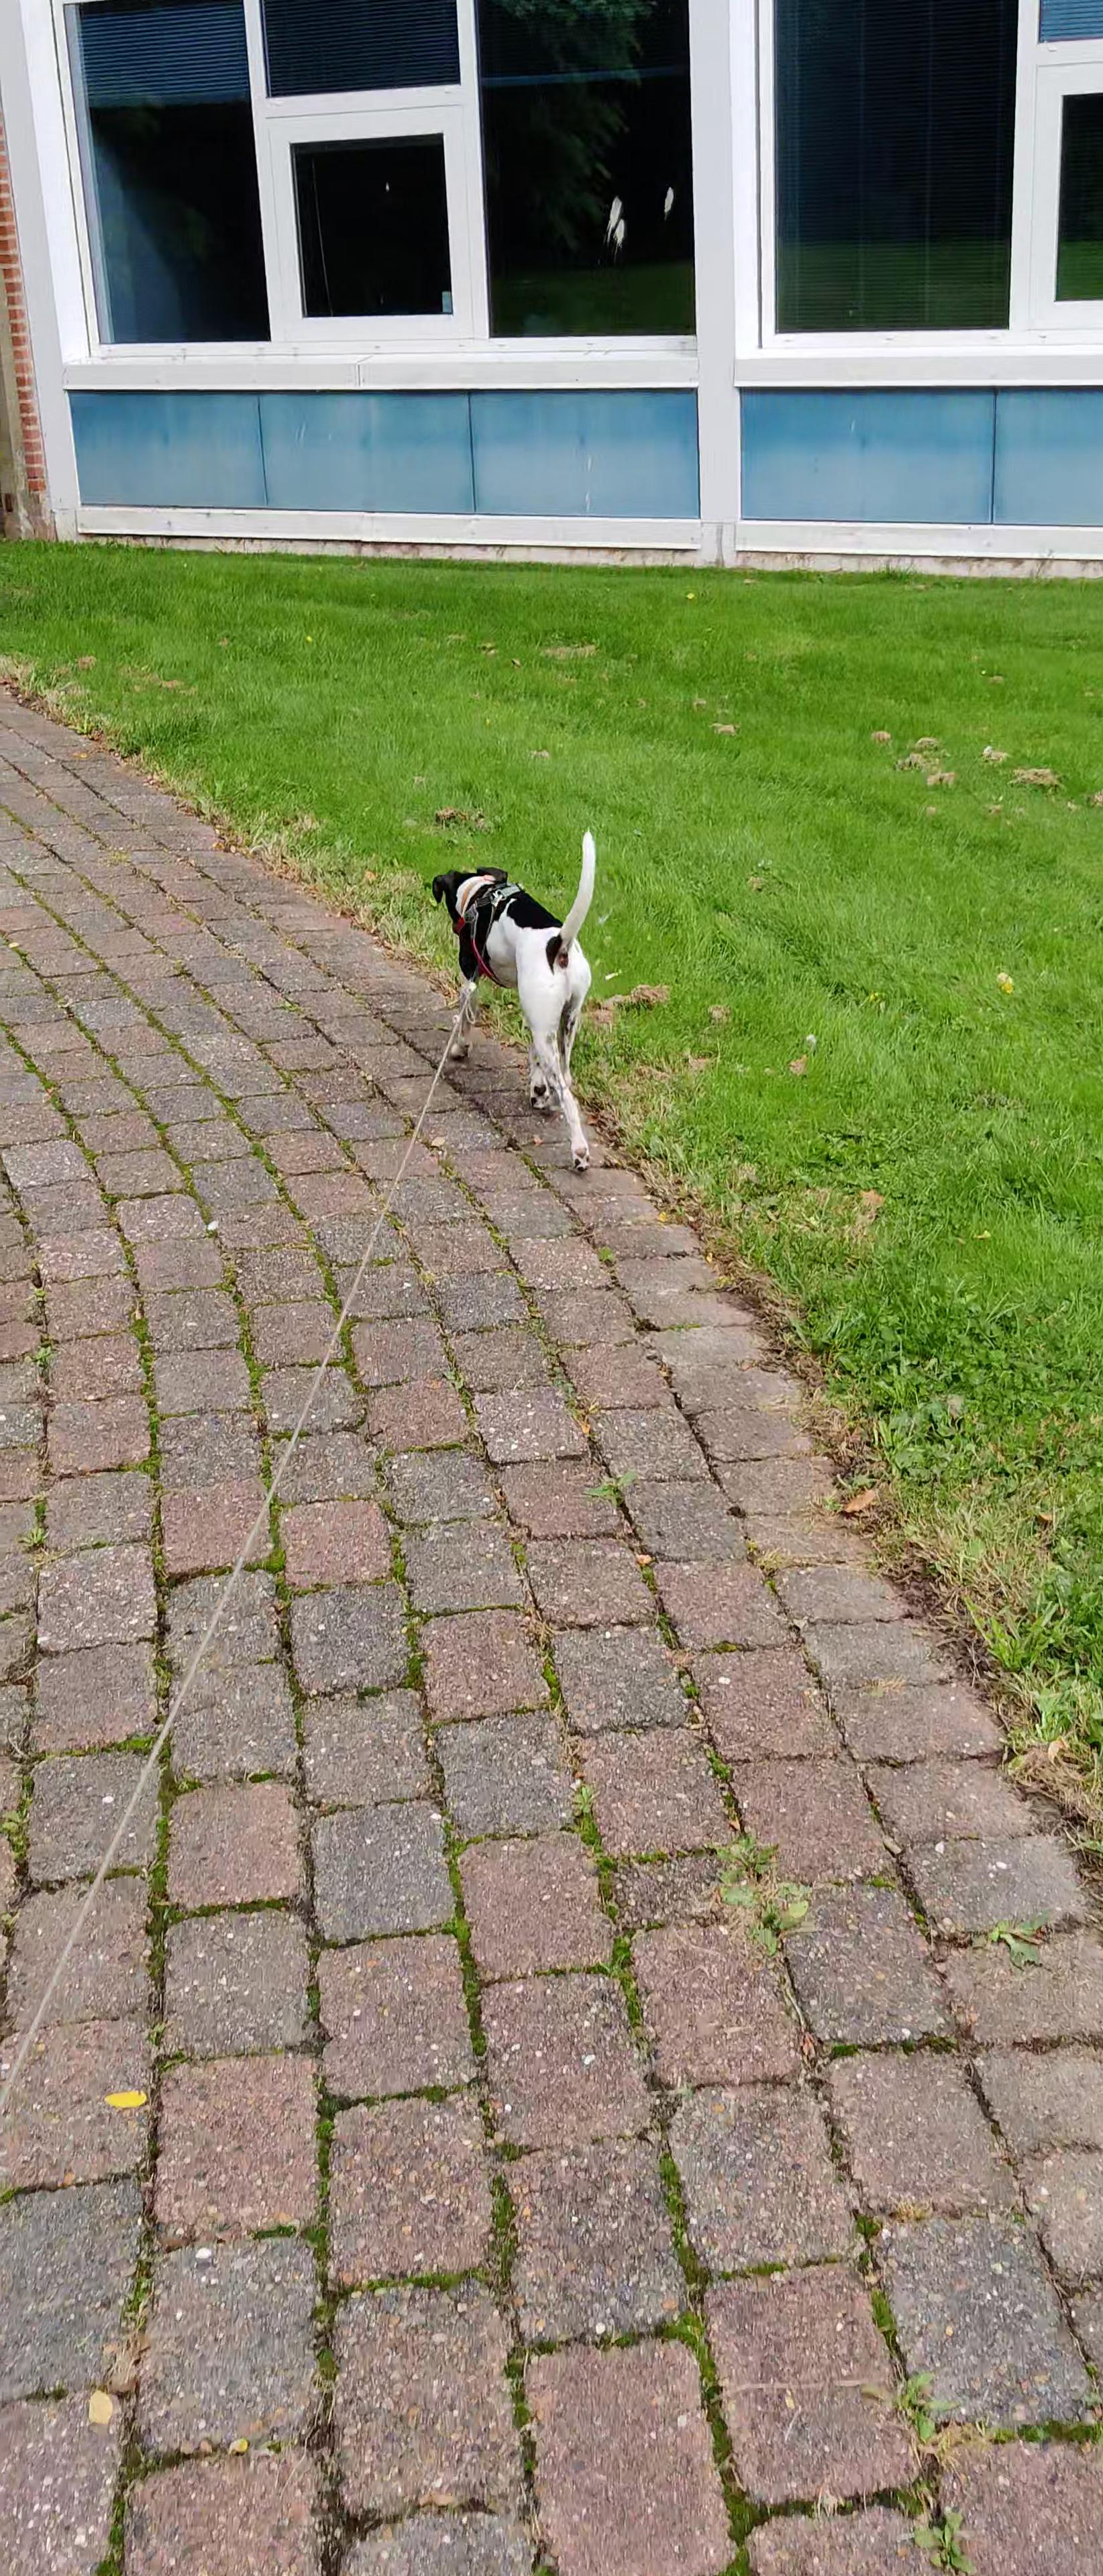Dog: (413, 800, 636, 1206)
